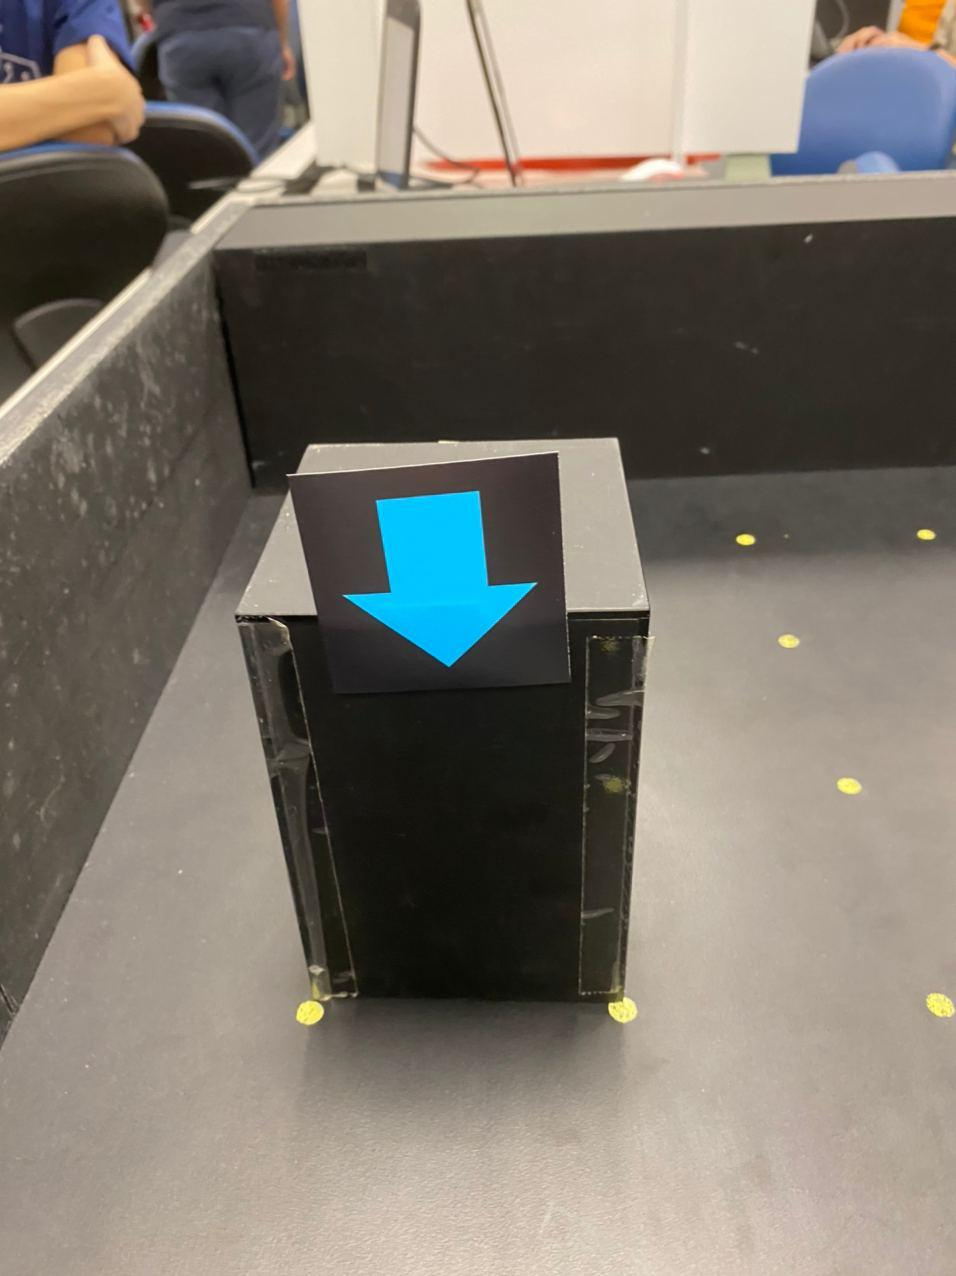down: (342, 491, 540, 669)
